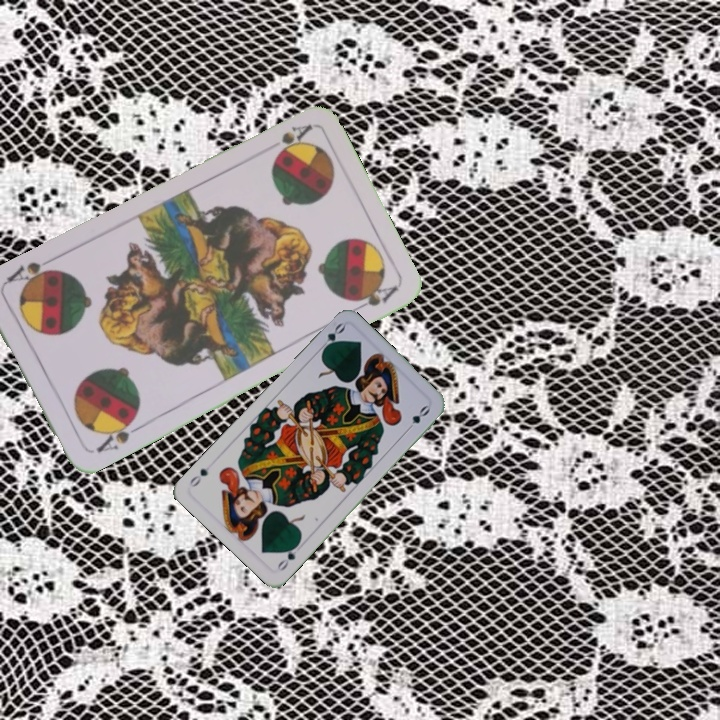GO: (315, 319, 348, 355), (273, 539, 302, 574)
SA: (92, 413, 143, 456), (269, 120, 315, 161)
